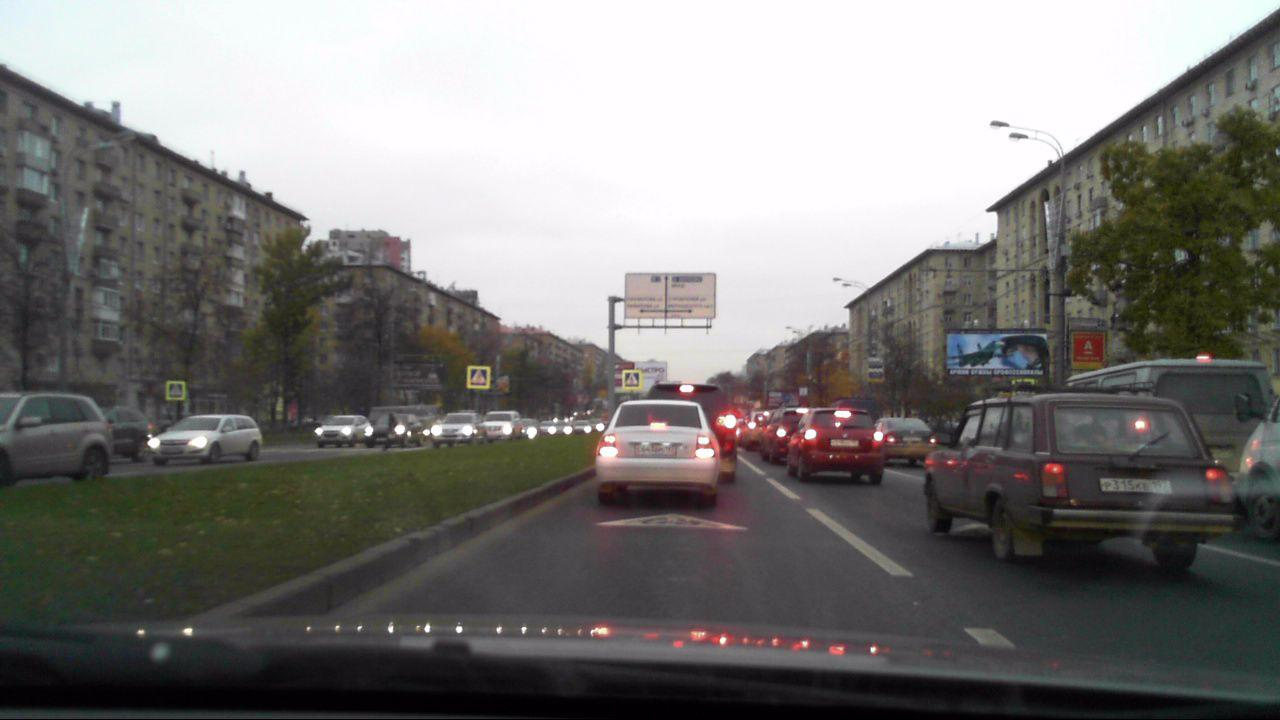5_19_1: (467, 368, 488, 387)
5_19_2: (622, 369, 641, 390), (167, 382, 184, 400)
